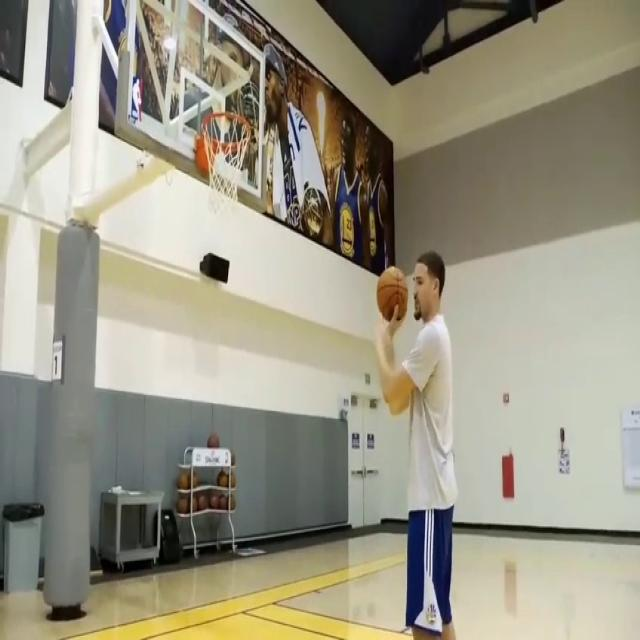ball: (377, 266, 409, 322), (176, 496, 190, 514), (194, 494, 208, 512), (176, 474, 189, 493), (225, 472, 237, 492), (189, 471, 200, 489), (217, 471, 228, 489), (209, 494, 220, 512), (207, 434, 220, 448), (217, 496, 228, 512), (228, 494, 235, 512)
